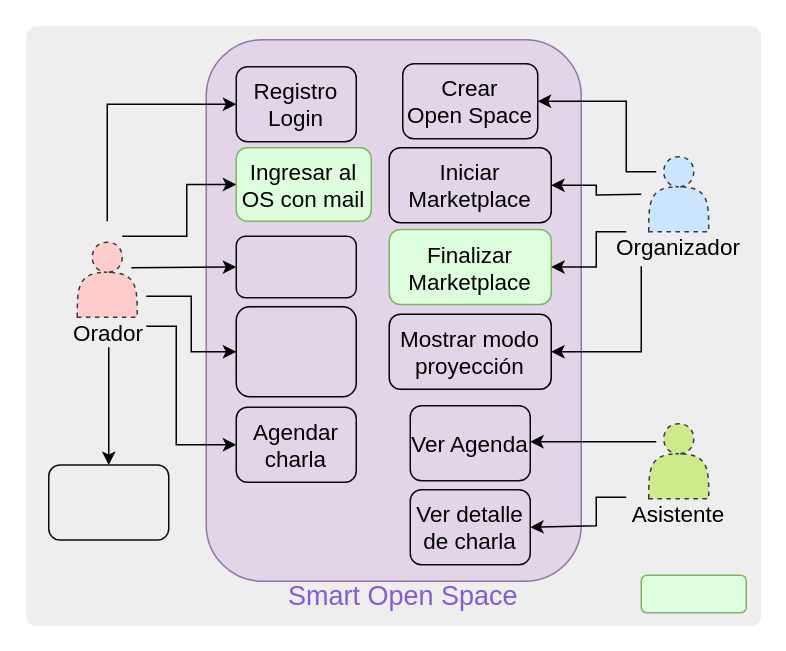
This 786x651 diagram has some shape labels left out. Here are the shapes that lost their labels. From the top down, the centre of each, then its label:
point (295, 266): Cargar charla
point (295, 351): Encolarse para exponer
point (108, 502): Exponer
point (693, 593): Agregado
